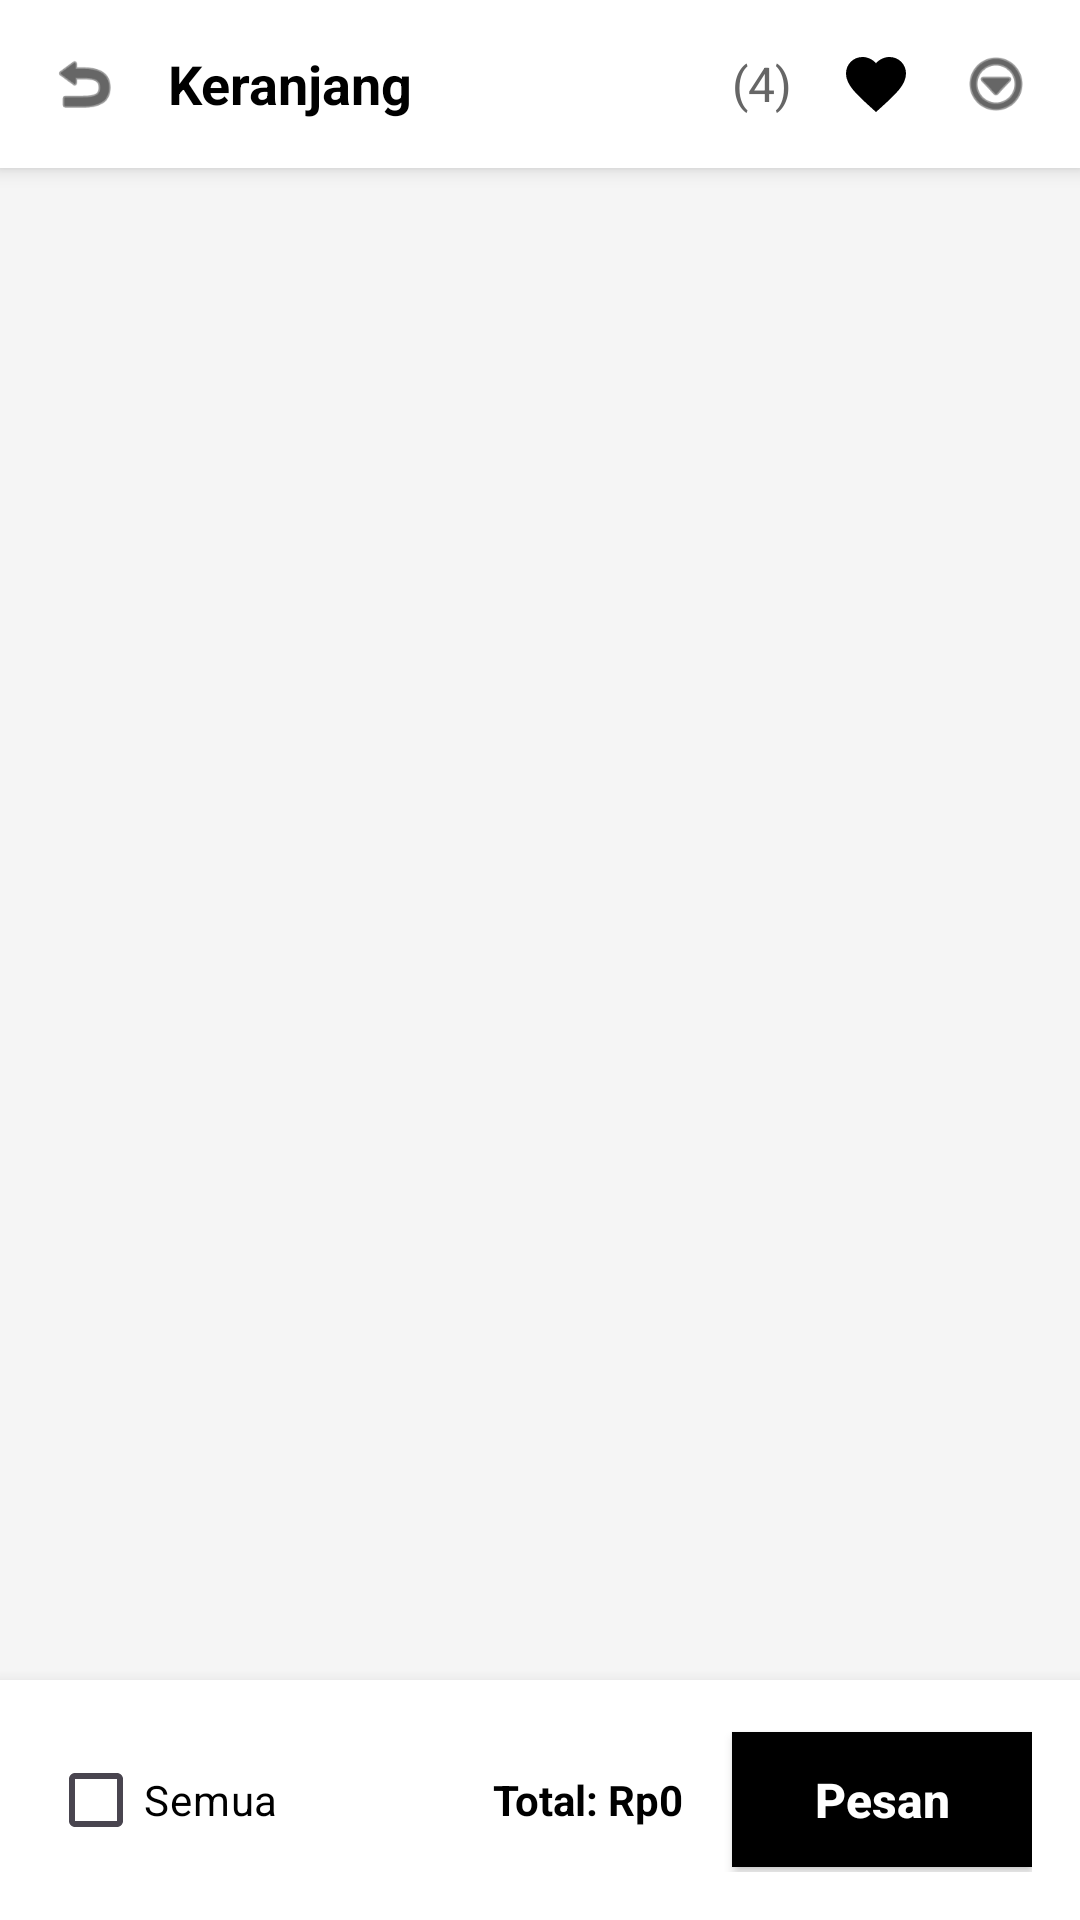

Icon bounding boxes for this 1080×1920 phone screenshot, format (x1, y1, x2, y2):
more: (969, 57, 1023, 111)
revert: (59, 61, 111, 108)
